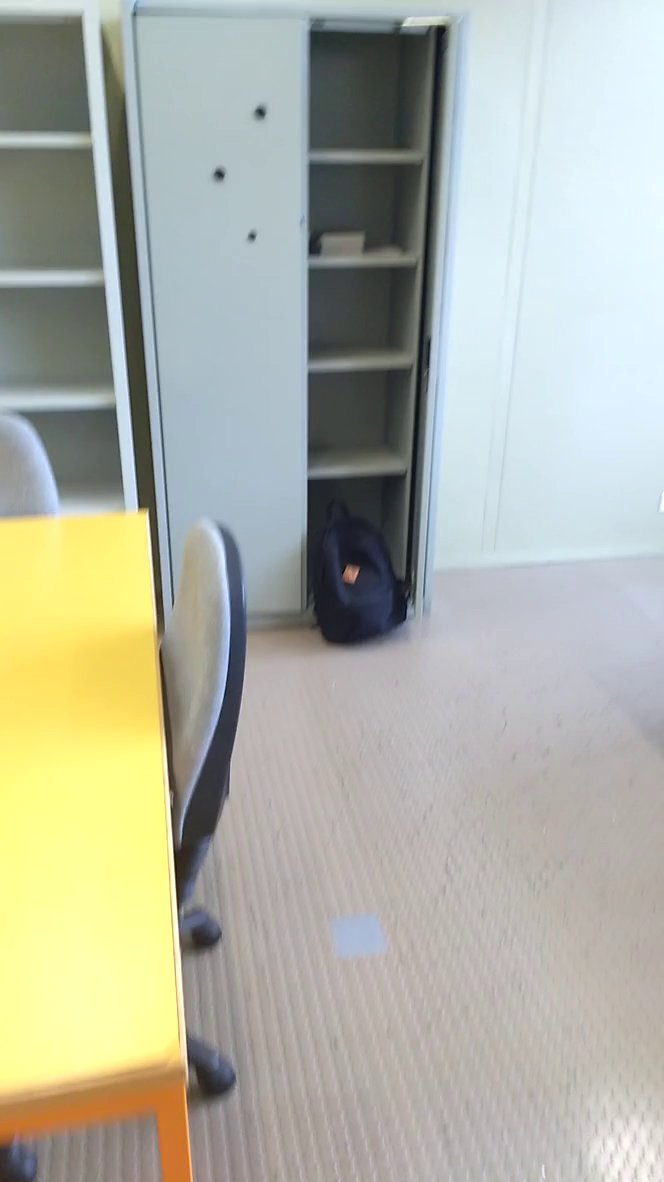bag: (295, 489, 419, 655)
chair: (120, 497, 262, 998)
